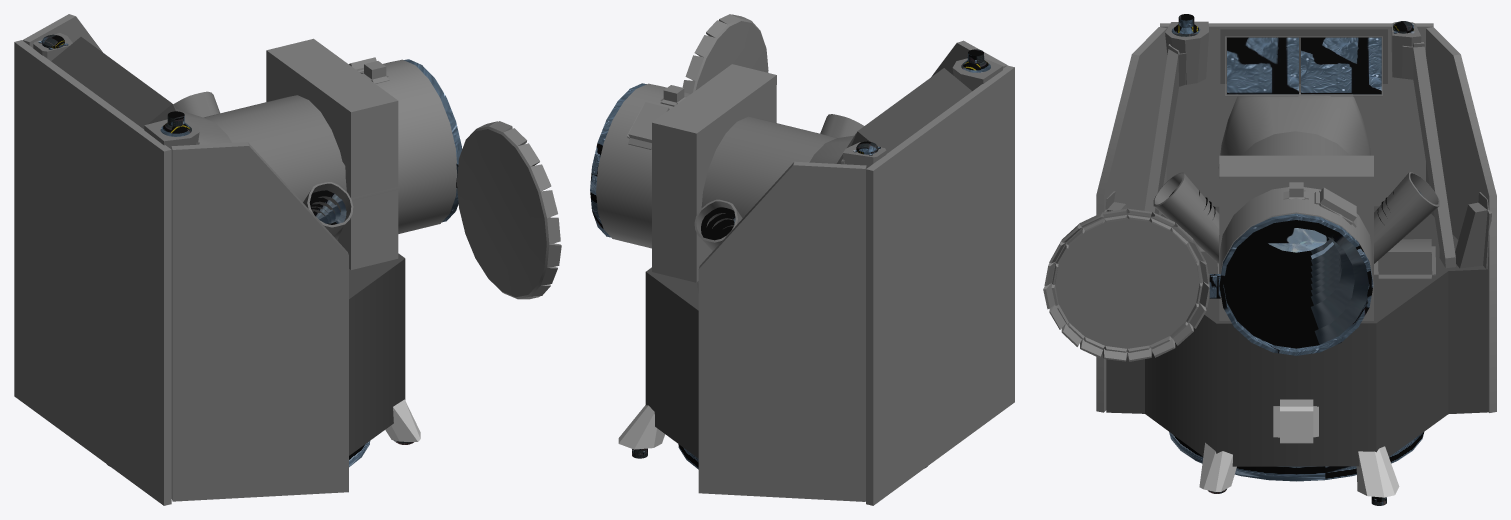
File: Cheops.obj
3 views of the same model, side by side, from view 1: azimuth 30°, elevation 25°; view 2: azimuth 150°, elevation 25°; view 3: azimuth 270°, elevation 25° (orthographic). The views are drawn at different scales.
Visible parts, largest first — view 1: CHEOPS_LowPoly polySurface3, CHEOPS_LowPoly polySurface19 polySurface15, CHEOPS_LowPoly pCube19, CHEOPS_LowPoly group4 pCylinder39 polySurface12, CHEOPS_LowPoly pCube32 polySurface22, CHEOPS_LowPoly polySurface15 polySurface17, CHEOPS_LowPoly pCylinder7, CHEOPS_LowPoly pCylinder42, CHEOPS_LowPoly pCylinder19, CHEOPS_LowPoly polySurface15 polySurface16; view 2: CHEOPS_LowPoly polySurface3, CHEOPS_LowPoly polySurface19 polySurface15, CHEOPS_LowPoly pCube19, CHEOPS_LowPoly pCube32 polySurface22, CHEOPS_LowPoly polySurface15 polySurface17, CHEOPS_LowPoly group4 pCylinder39 polySurface12, CHEOPS_LowPoly polySurface15 polySurface16, CHEOPS_LowPoly pCylinder7, CHEOPS_LowPoly pCylinder19, CHEOPS_LowPoly pCylinder35, CHEOPS_LowPoly pCylinder45; view 3: CHEOPS_LowPoly pCube19, CHEOPS_LowPoly polySurface3, CHEOPS_LowPoly pCube32 polySurface22, CHEOPS_LowPoly polySurface11 group4 pCylinder39, CHEOPS_LowPoly pCylinder33, CHEOPS_LowPoly pCube31, CHEOPS_LowPoly polySurface19 polySurface15, CHEOPS_LowPoly pCylinder7, CHEOPS_LowPoly group4 pCylinder39 polySurface12, CHEOPS_LowPoly polySurface15 polySurface17, CHEOPS_LowPoly pCylinder19, pCylinder1 CHEOPS_LowPoly (+2 smaller).
Part boxes in pixels (<box>): CHEOPS_LowPoly polySurface3: <box>14,14,348,505</box>; CHEOPS_LowPoly polySurface19 polySurface15: <box>266,38,398,269</box>; CHEOPS_LowPoly pCube19: <box>51,37,405,455</box>; CHEOPS_LowPoly group4 pCylinder39 polySurface12: <box>456,121,561,299</box>; CHEOPS_LowPoly pCube32 polySurface22: <box>33,33,353,239</box>; CHEOPS_LowPoly polySurface15 polySurface17: <box>352,59,456,233</box>; CHEOPS_LowPoly pCylinder7: <box>385,399,420,441</box>; CHEOPS_LowPoly pCylinder42: <box>309,190,346,224</box>; CHEOPS_LowPoly pCylinder19: <box>404,59,462,222</box>; CHEOPS_LowPoly polySurface15 polySurface16: <box>349,57,389,83</box>; CHEOPS_LowPoly polySurface3: <box>698,40,1014,505</box>; CHEOPS_LowPoly polySurface19 polySurface15: <box>652,64,776,282</box>; CHEOPS_LowPoly pCube19: <box>645,68,972,458</box>; CHEOPS_LowPoly pCube32 polySurface22: <box>694,58,1002,292</box>; CHEOPS_LowPoly polySurface15 polySurface17: <box>596,83,690,248</box>; CHEOPS_LowPoly group4 pCylinder39 polySurface12: <box>682,14,768,93</box>; CHEOPS_LowPoly polySurface15 polySurface16: <box>627,85,686,149</box>; CHEOPS_LowPoly pCylinder7: <box>618,405,665,449</box>; CHEOPS_LowPoly pCylinder19: <box>590,83,646,237</box>; CHEOPS_LowPoly pCylinder35: <box>701,207,735,240</box>; CHEOPS_LowPoly pCylinder45: <box>961,49,990,72</box>; CHEOPS_LowPoly pCube19: <box>1106,29,1488,466</box>; CHEOPS_LowPoly polySurface3: <box>1096,23,1496,412</box>; CHEOPS_LowPoly pCube32 polySurface22: <box>1104,21,1491,279</box>; CHEOPS_LowPoly polySurface11 group4 pCylinder39: <box>1051,215,1202,352</box>; CHEOPS_LowPoly pCylinder33: <box>1223,220,1368,348</box>; CHEOPS_LowPoly pCube31: <box>1227,37,1381,94</box>; CHEOPS_LowPoly polySurface19 polySurface15: <box>1219,155,1373,320</box>; CHEOPS_LowPoly pCylinder7: <box>1199,399,1399,497</box>; CHEOPS_LowPoly group4 pCylinder39 polySurface12: <box>1043,208,1209,361</box>; CHEOPS_LowPoly polySurface15 polySurface17: <box>1219,187,1373,283</box>; CHEOPS_LowPoly pCylinder19: <box>1219,213,1373,355</box>; pCylinder1 CHEOPS_LowPoly: <box>1169,432,1424,481</box>.
Size of the model in its own units: 1301 by 1548 by 1677.
Materials: 9 (4 with a texture image).
